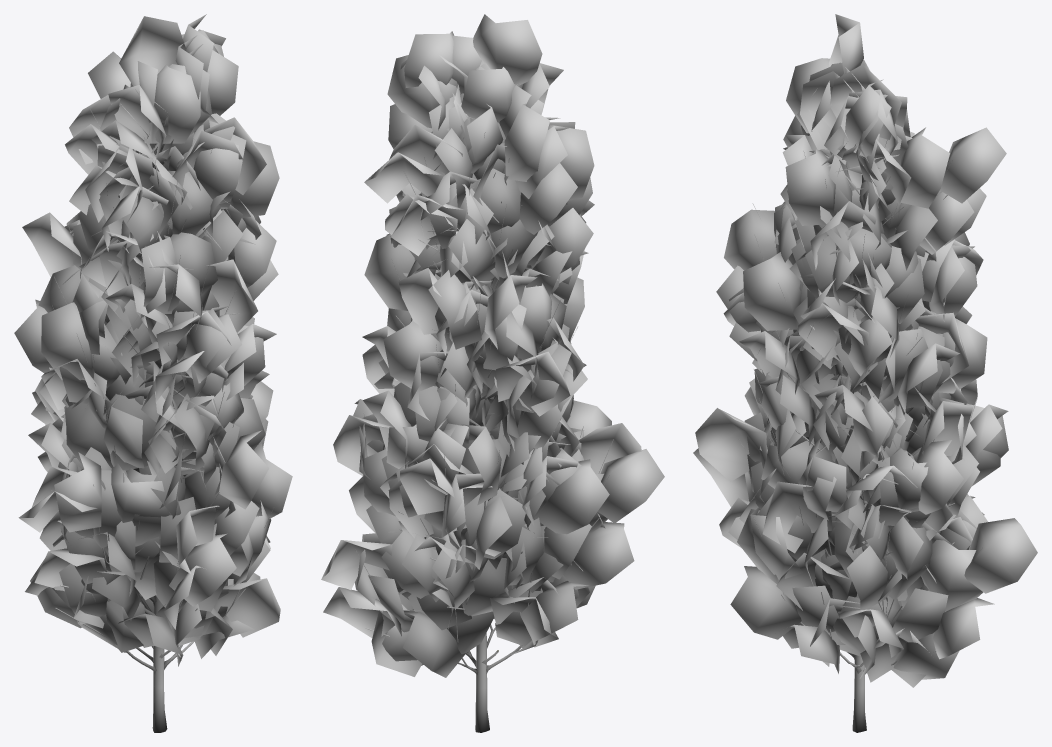
The model's file is BeechEuropean_A.fbx.
The picture shows the model from 3 angles, left to right: view 1: azimuth 30°, elevation 25°; view 2: azimuth 150°, elevation 25°; view 3: azimuth 270°, elevation 25°; orthographic projection. The views are drawn at different scales.
Parts seen in each view (by area): view 1: BeechEuropean_A_LOD0; view 2: BeechEuropean_A_LOD0; view 3: BeechEuropean_A_LOD0.
Boxes of the visible parts, x1,y1,x2,y2 form: BeechEuropean_A_LOD0: [14, 14, 292, 732]; BeechEuropean_A_LOD0: [321, 14, 664, 732]; BeechEuropean_A_LOD0: [693, 14, 1037, 732].
Size of the model in its own units: 1216 by 3004 by 1341.
